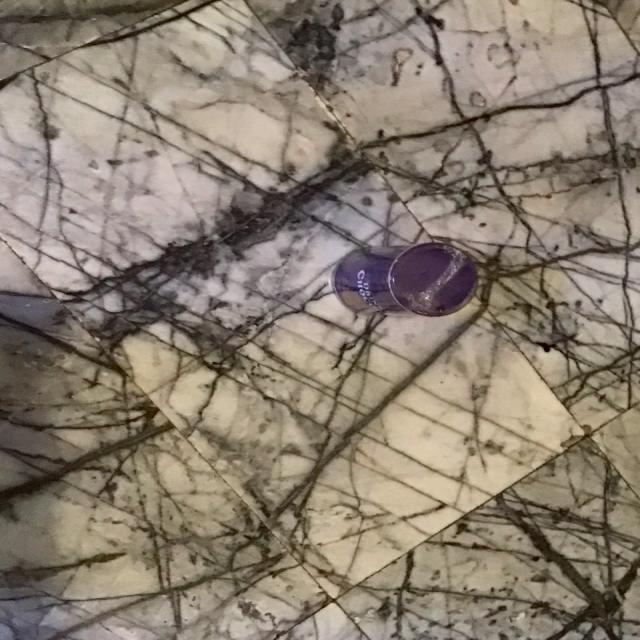can: (334, 244, 474, 324)
